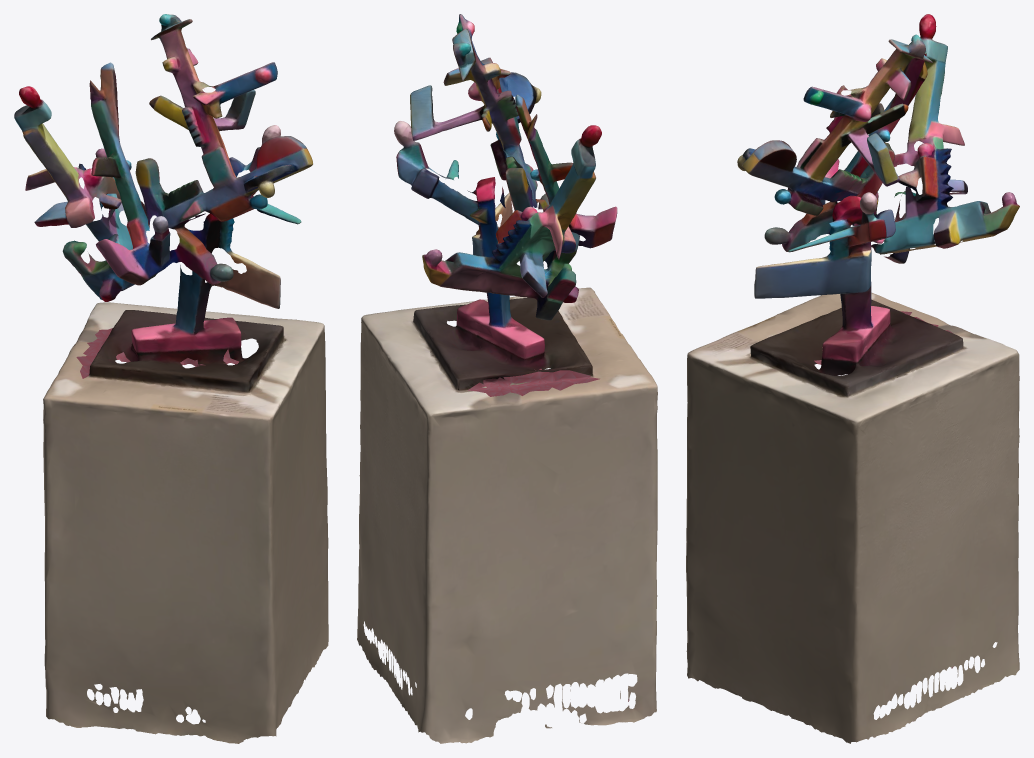
The model's file is Sculpture.glb.
3 renders of one model, left to right at view 1: azimuth 30°, elevation 25°; view 2: azimuth 150°, elevation 25°; view 3: azimuth 270°, elevation 25°, orthographic. The views are drawn at different scales.
Size of the model in its own units: 1.06 by 2.29 by 1.06.
Materials: 10 (10 with a texture image).
